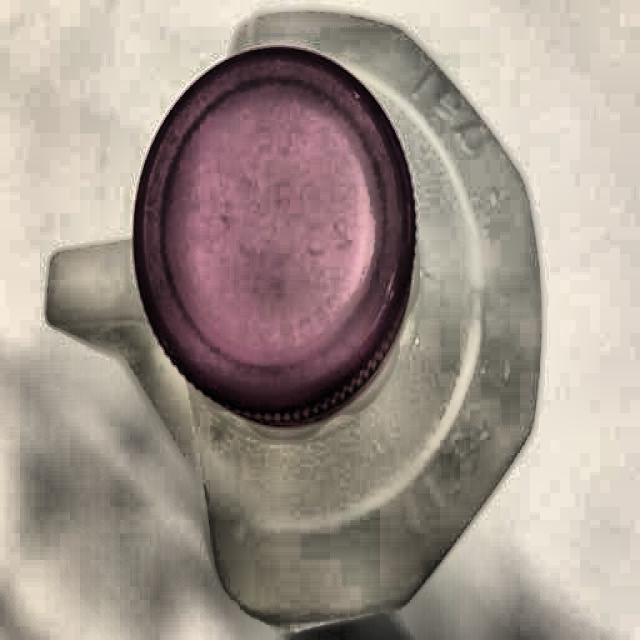plastic: (49, 6, 546, 640)
